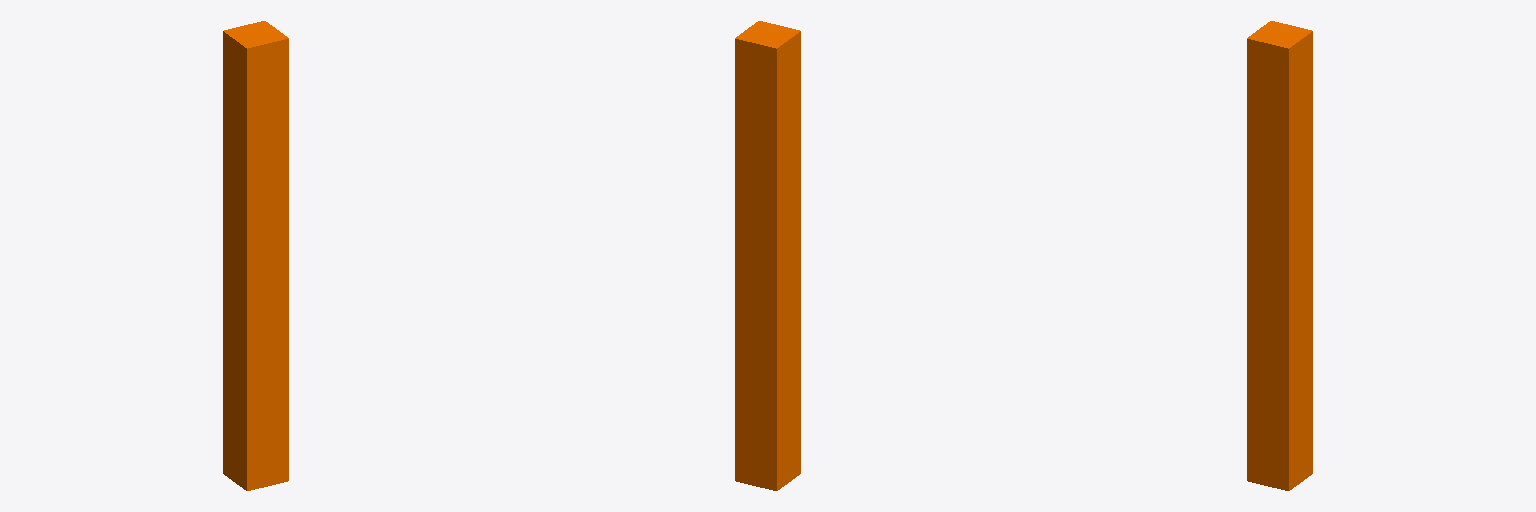
URDF robot description (1DOF_ROBOT):
<robot name="1DOF_ROBOT">
  <link name="world"/>
  <joint name="fixed" type="fixed">
    <parent link="world"/>
    <child link="base_link"/>
  </joint>
    
  <link name="base_link">
    <visual>
      <origin xyz="0 0 0.1" rpy="0 0 0"/>
      <geometry>
        <mesh filename="file:[local-path]/prac_ws/src/clean_robot/urdf/meshes/assembly.stl" scale="1 1 1"/>
      </geometry>
      <material name="white">
        <color rgba="1.0 1.0 1.0 1.0"/>
      </material>
    </visual>
  </link>

  <joint name="joint1" type="revolute">
    <parent link="base_link"/>
    <child link="link2"/>
    <origin xyz="0 0 0.2" rpy="0 0 0"/>
    <axis xyz="1 0 0"/>
    <limit effort="100" velocity="1.0" lower="-1.57" upper="1.57"/>
  </joint>

  <link name="link2">
    <visual>
    <origin xyz="0 0 0.5" rpy="0 0 0"/>
      <geometry>
        <box size="0.1 0.1 1.0"/>
      </geometry>
      <material name="orange">
        <color rgba="1.0 0.5 0.0 1.0"/>
      </material>
    </visual>
  </link>
</robot>

--- Facts derived from the render (not from the file) ---
The picture shows the robot from 3 angles, left to right: view 1: azimuth 30°, elevation 25°; view 2: azimuth 150°, elevation 25°; view 3: azimuth 330°, elevation 25°; orthographic projection.
Model 1DOF_ROBOT with 3 links and 2 joints (1 revolute, 1 fixed), rooted at world, posed all joints at 0.
Links seen in each view (by area): view 1: link2; view 2: link2; view 3: link2.
Link boxes in pixels (x1,y1,x2,y2): link2: [223, 21, 288, 490]; link2: [735, 21, 800, 490]; link2: [1247, 21, 1312, 490].
Bounding box of the posed robot: 0.1 × 0.1 × 1 m (x, y, z).
Geometry: only primitive shapes (box / cylinder / sphere) drawn; not drawn: 1 mesh visual (reference in a form the renderer does not follow).